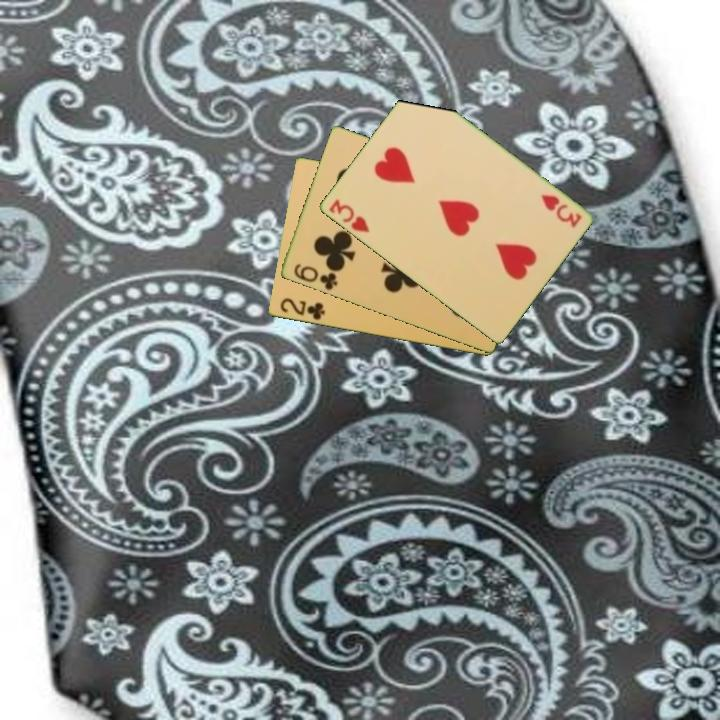2c: (276, 295, 328, 323)
3h: (537, 191, 584, 231), (325, 196, 372, 235)
6c: (290, 260, 340, 293)
